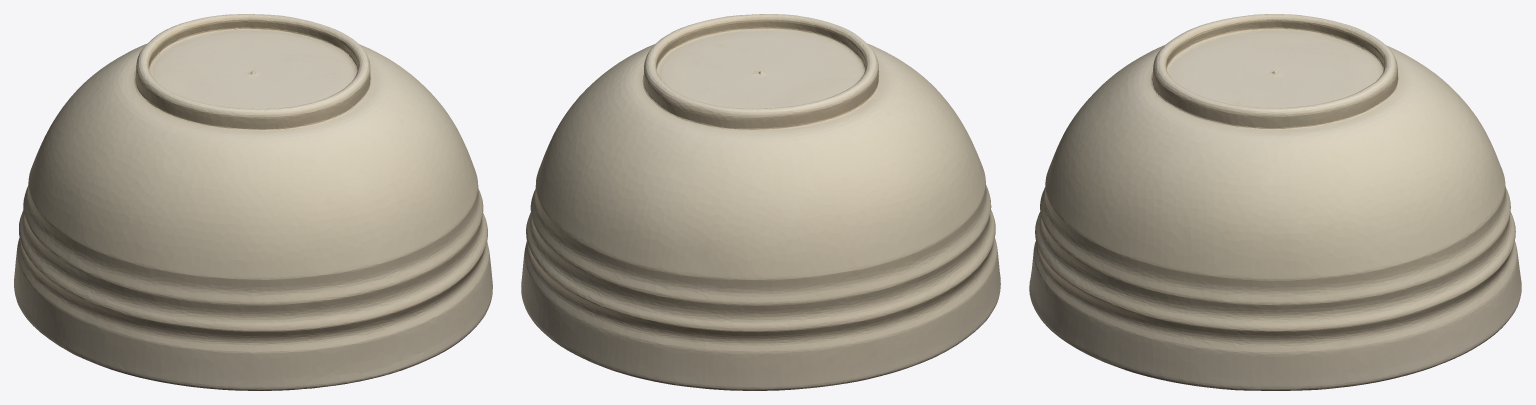
3 renders of one model, left to right at view 1: azimuth 30°, elevation 25°; view 2: azimuth 150°, elevation 25°; view 3: azimuth 270°, elevation 25°, orthographic.
Visible parts, largest first — view 1: world; view 2: world; view 3: world.
Boxes of the visible parts, x1,y1,x2,y2 form: world: [14, 14, 492, 390]; world: [521, 14, 1000, 390]; world: [1029, 14, 1521, 390].
Bounding box in the file's own units: 0.1575 × 0.0836 × 0.1624.
Materials: 1 (1 with a texture image).
